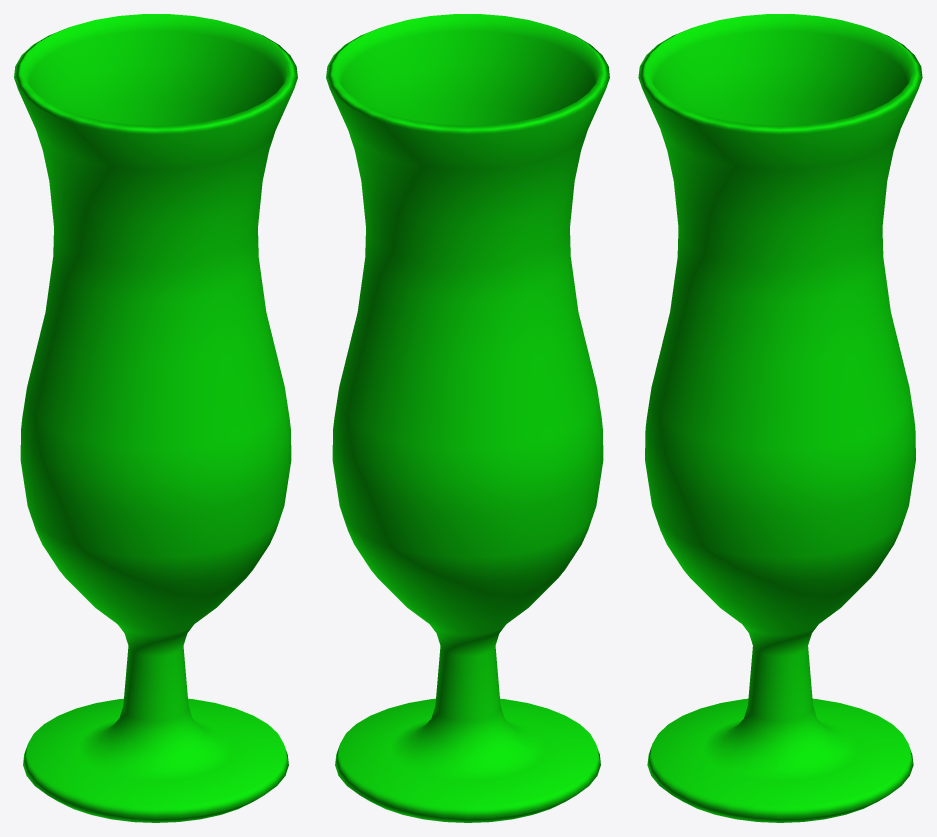
Rendered from Glass3_LOD_1.fbx.
The picture shows the model from 3 angles, left to right: view 1: azimuth 30°, elevation 25°; view 2: azimuth 150°, elevation 25°; view 3: azimuth 270°, elevation 25°; orthographic projection.
Parts seen in each view (by area): view 1: Glass3_LOD_1; view 2: Glass3_LOD_1; view 3: Glass3_LOD_1.
Boxes of the visible parts, bbox=[...] form: Glass3_LOD_1: bbox=[14, 14, 297, 822]; Glass3_LOD_1: bbox=[326, 14, 609, 822]; Glass3_LOD_1: bbox=[638, 14, 922, 822].
Bounding box in the file's own units: 1.02 × 2.83 × 1.02.
